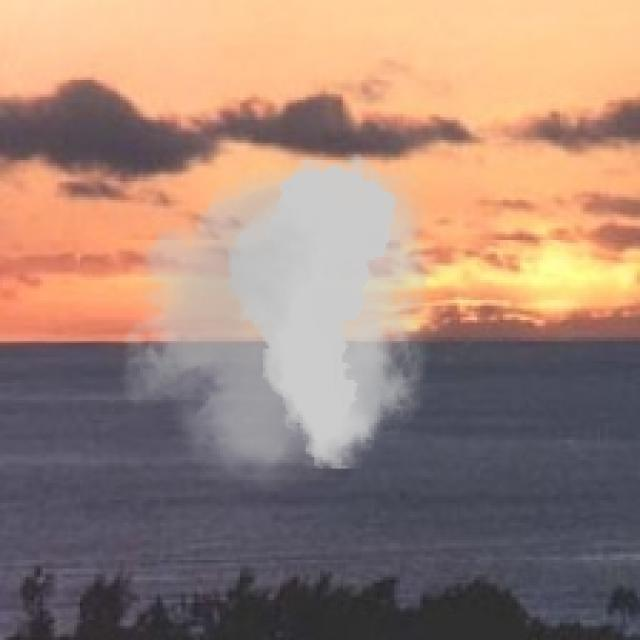smoke: (103, 143, 454, 491)
